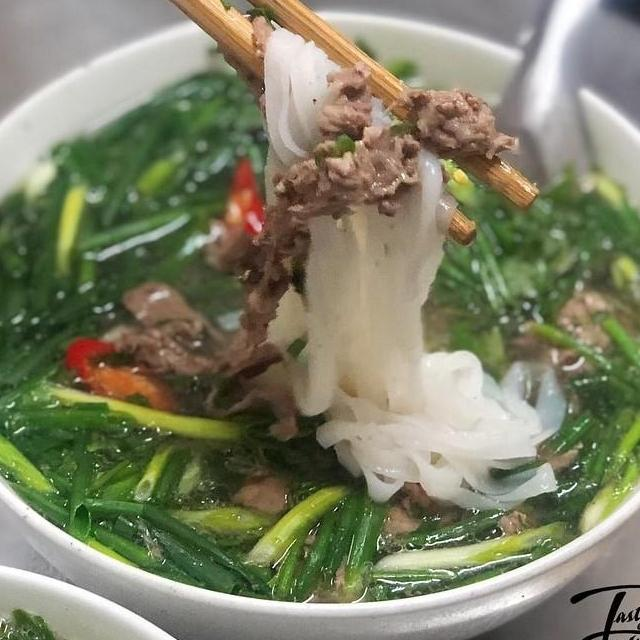banh pho: (252, 184, 574, 516), (250, 17, 396, 211)
pho bo: (0, 16, 640, 616)
thit bo: (242, 117, 430, 321), (83, 272, 290, 397), (390, 76, 526, 172), (304, 56, 384, 189)
